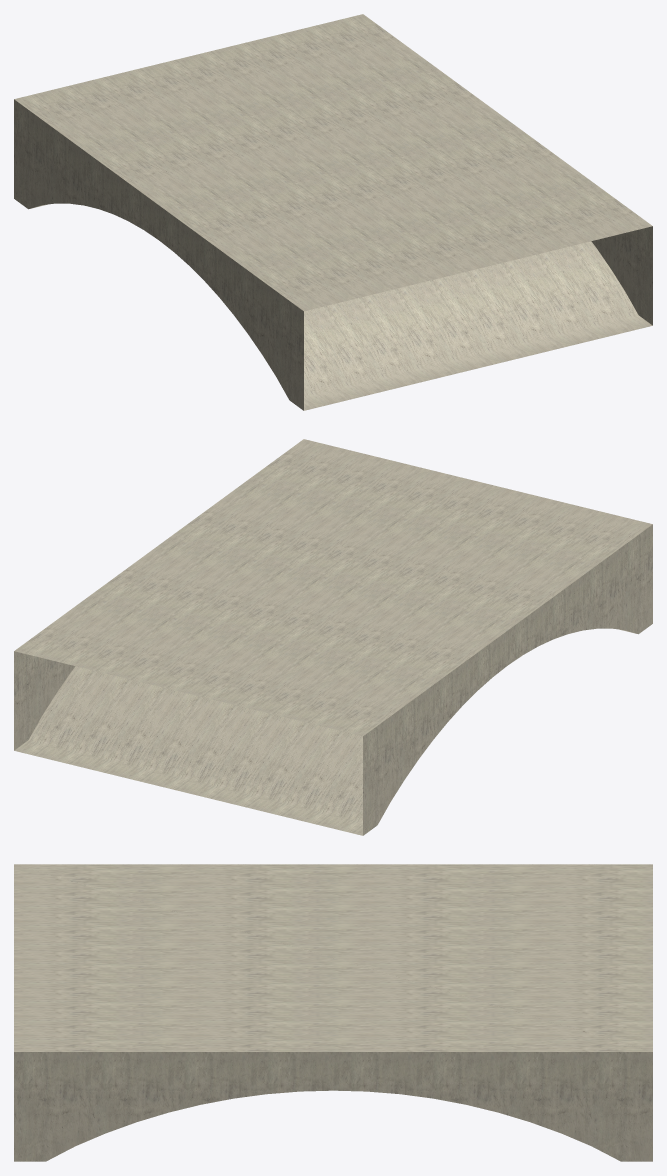
Rendered from BridgeBase7-4L-40M.fbx.
The picture shows the model from 3 angles, top to bottom: view 1: azimuth 30°, elevation 25°; view 2: azimuth 150°, elevation 25°; view 3: azimuth 270°, elevation 25°; orthographic projection. The views are drawn at different scales.
Parts seen in each view (by area): view 1: BridgeBase7-4L-40M; view 2: BridgeBase7-4L-40M; view 3: BridgeBase7-4L-40M.
Part boxes in pixels (bbox=[...]): BridgeBase7-4L-40M: bbox=[14, 14, 652, 410]; BridgeBase7-4L-40M: bbox=[14, 439, 652, 835]; BridgeBase7-4L-40M: bbox=[14, 864, 652, 1161].
Bounding box in the file's own units: 28 × 7.63 × 40.26.
